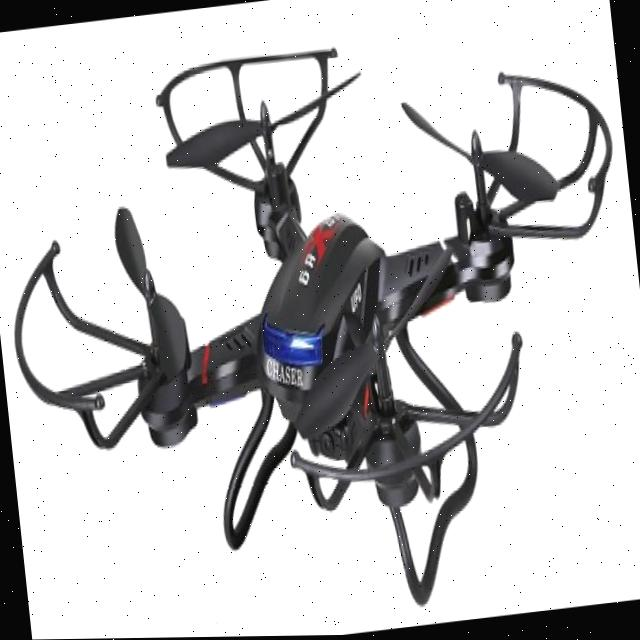drone: (4, 0, 640, 606)
